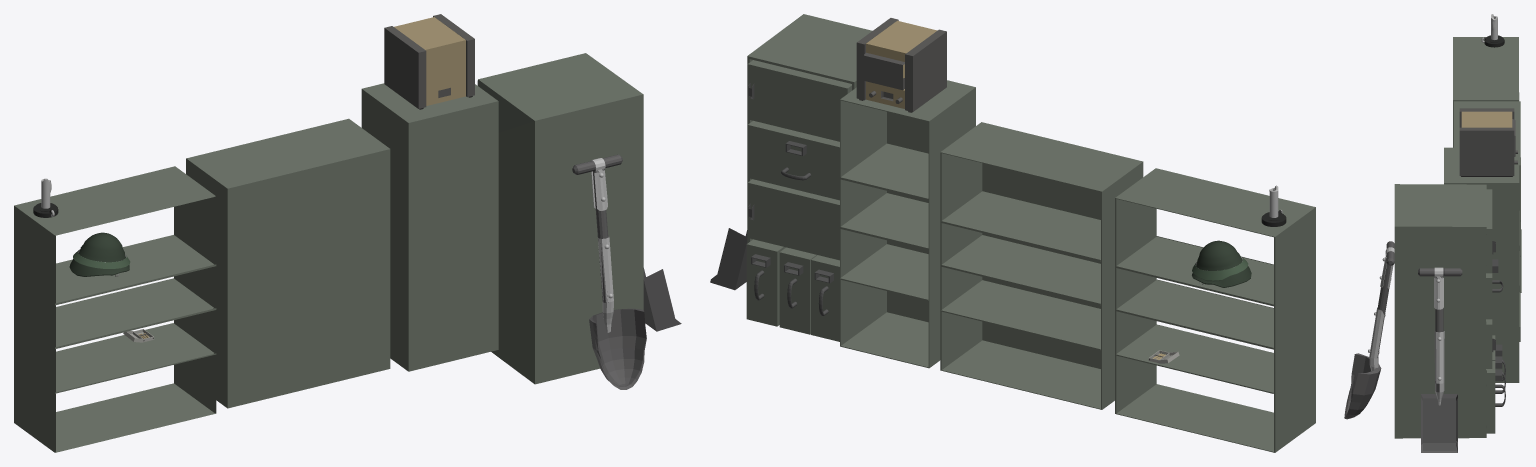
File: Props please use 2.fbx
3 renders of one model, left to right at view 1: azimuth 30°, elevation 25°; view 2: azimuth 150°, elevation 25°; view 3: azimuth 270°, elevation 25°, orthographic. The views are drawn at different scales.
Visible parts, largest first — view 1: war_cabinets:pCube20, war_cabinets:pCube21, war_cabinets:pCube22, war_cabinets:pCube8, Stereo_raido_war:pCylinder3, shovel:pPipe13, Helmet:pCube6, shovel:polySurface5; view 2: war_cabinets:pCube20, war_cabinets:pCube21, war_cabinets:pCube22, war_cabinets:pCube8, Stereo_raido_war:pCylinder3, Helmet:pCube6, shovel:polySurface5, Candle_Snapshot:pCylinder4; view 3: war_cabinets:pCube22, war_cabinets:pCube8, war_cabinets:pCube21, Stereo_raido_war:pCylinder3, shovel:polySurface5, shovel:pPipe13, war_cabinets:pCube20, Candle_Snapshot:pCylinder4.
Boxes of the visible parts, box(x1,y1,x2,y2) form: war_cabinets:pCube20: box(186, 118, 390, 408); war_cabinets:pCube21: box(14, 166, 216, 452); war_cabinets:pCube22: box(477, 53, 643, 384); war_cabinets:pCube8: box(361, 83, 498, 371); Stereo_raido_war:pCylinder3: box(384, 14, 474, 109); shovel:pPipe13: box(572, 154, 646, 389); Helmet:pCube6: box(69, 232, 130, 276); shovel:polySurface5: box(643, 268, 681, 331); war_cabinets:pCube20: box(940, 122, 1143, 409); war_cabinets:pCube21: box(1115, 168, 1315, 452); war_cabinets:pCube22: box(746, 14, 872, 341); war_cabinets:pCube8: box(840, 80, 975, 368); Stereo_raido_war:pCylinder3: box(856, 18, 946, 112); Helmet:pCube6: box(1192, 240, 1251, 287); shovel:polySurface5: box(710, 228, 747, 290); Candle_Snapshot:pCylinder4: box(1261, 185, 1286, 226); war_cabinets:pCube22: box(1394, 184, 1505, 438); war_cabinets:pCube8: box(1444, 147, 1520, 382); war_cabinets:pCube21: box(1453, 37, 1519, 147); Stereo_raido_war:pCylinder3: box(1459, 108, 1517, 176); shovel:polySurface5: box(1418, 267, 1462, 452); shovel:pPipe13: box(1344, 241, 1394, 419); war_cabinets:pCube20: box(1454, 101, 1521, 341); Candle_Snapshot:pCylinder4: box(1481, 14, 1504, 47).
Bounding box in the file's own units: 610 × 308 × 192.
